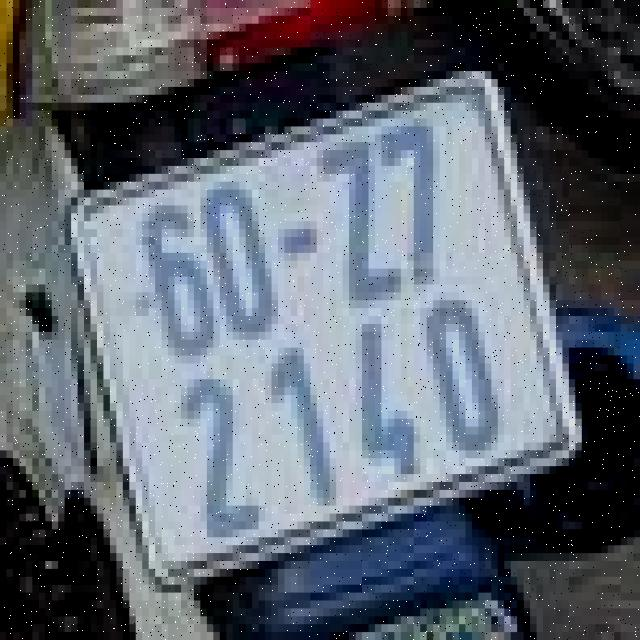0: (192, 162, 290, 350), (410, 282, 511, 463)
1: (255, 325, 354, 524)
2: (165, 357, 272, 549)
4: (329, 303, 435, 497)
6: (130, 187, 228, 374)
7: (369, 102, 473, 291)
Z: (306, 122, 406, 312)
